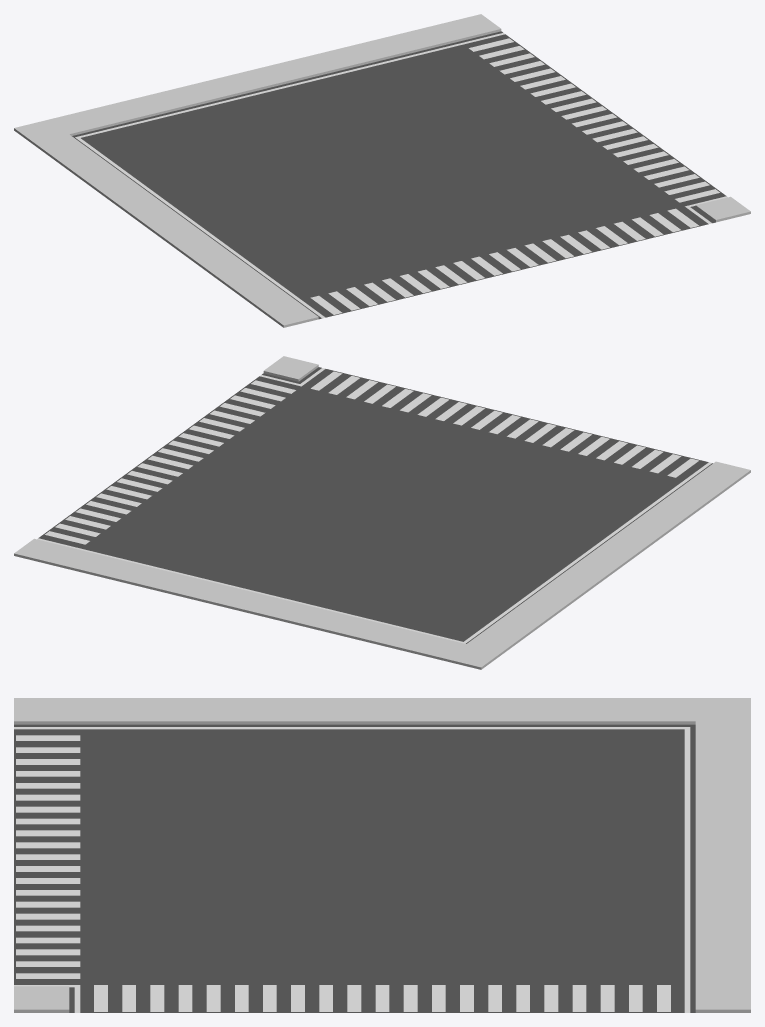
File: SPW_Urban_Road 4way_Corner_01.gltf
3 views of the same model, one above another, from view 1: azimuth 30°, elevation 25°; view 2: azimuth 150°, elevation 25°; view 3: azimuth 270°, elevation 25° (orthographic). The views are drawn at different scales.
Visible parts, largest first — view 1: SPW_Urban_Road_4way_Corner_01; view 2: SPW_Urban_Road_4way_Corner_01; view 3: SPW_Urban_Road_4way_Corner_01.
Part boxes in pixels (x1=…): SPW_Urban_Road_4way_Corner_01: x1=14, y1=14, x2=750, y2=327; SPW_Urban_Road_4way_Corner_01: x1=14, y1=356, x2=750, y2=669; SPW_Urban_Road_4way_Corner_01: x1=14, y1=698, x2=750, y2=1012.
Bounding box in the file's own units: 1575 × 7.87 × 1575.
1 material, 1 textured.
